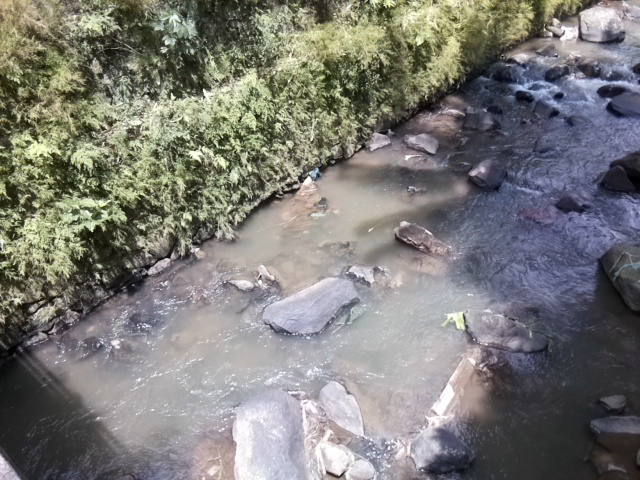Sampah_Plastik: (309, 166, 322, 178)
